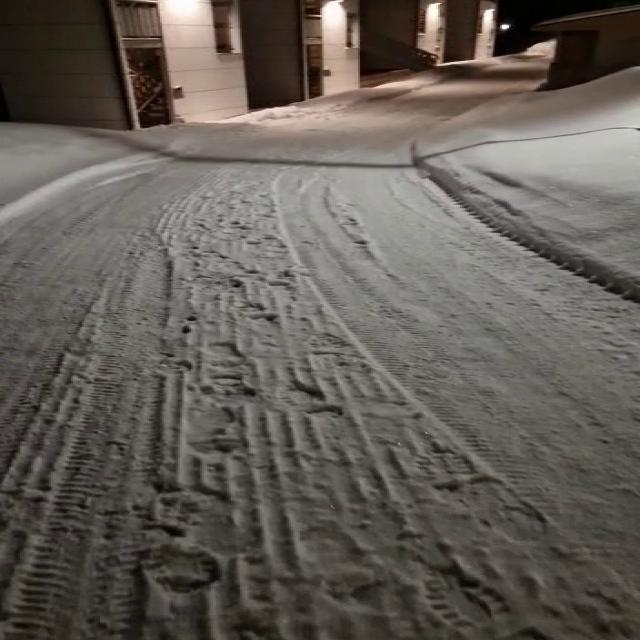path: (4, 56, 640, 640)
